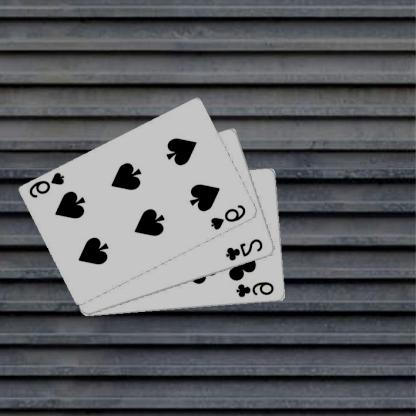2C: (225, 236, 266, 262)
6S: (28, 170, 68, 199), (210, 202, 249, 231)
9C: (235, 280, 277, 299)
